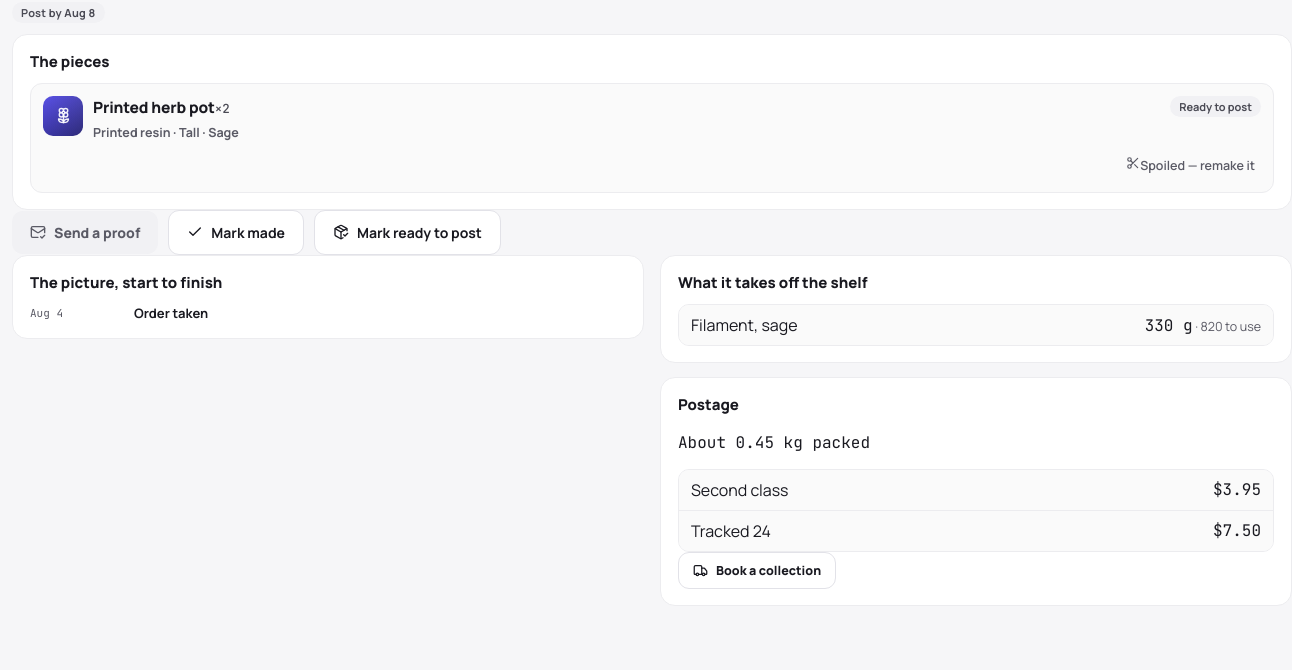
it: a collection booked on an order stays booked › comes back to the same order and finds it still there
Click the button "Book a collection" at (757, 570), box 678,552 -> 836,589
(page scrolled)
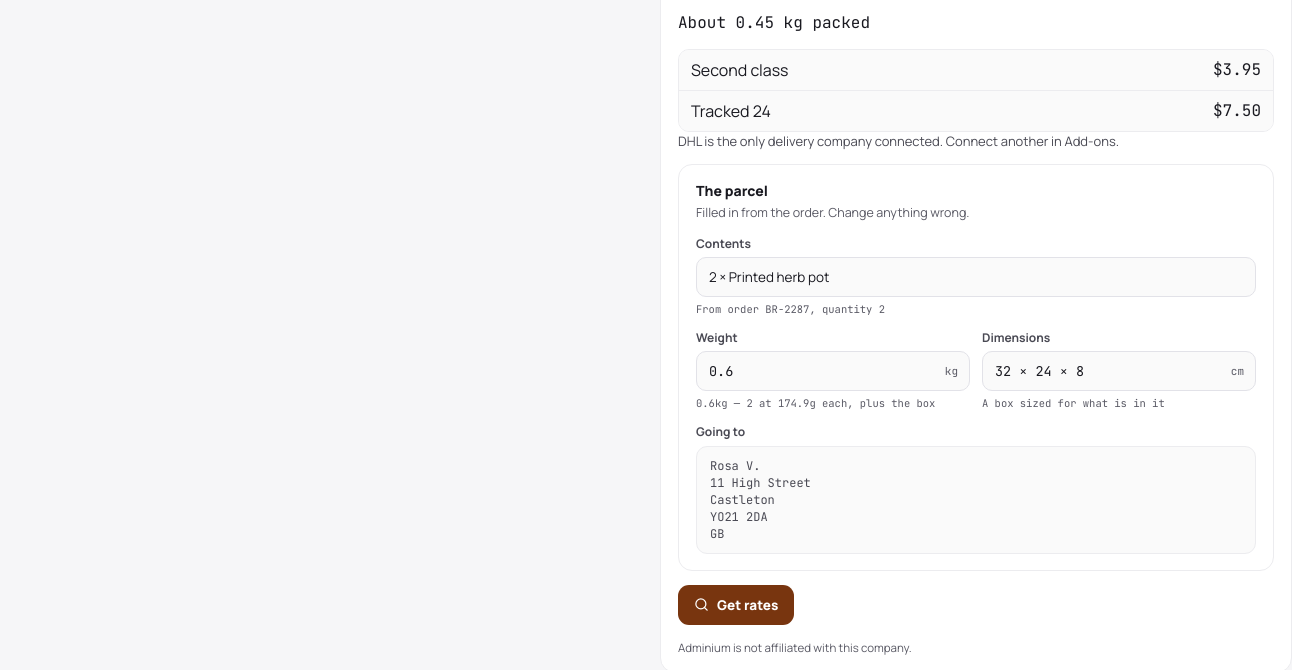
Click the button "Get rates" at (736, 605), box 678,585 -> 794,625
(page scrolled)
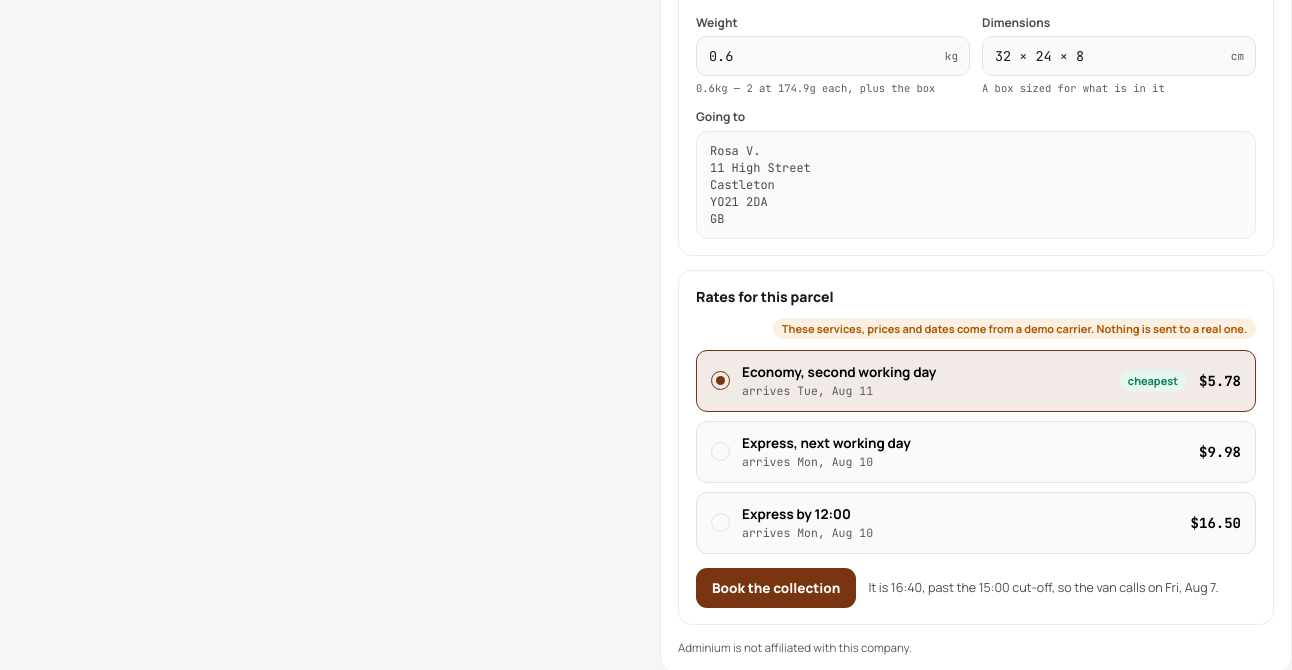
Click the button "Book the collection" at (776, 588), box 696,568 -> 856,608
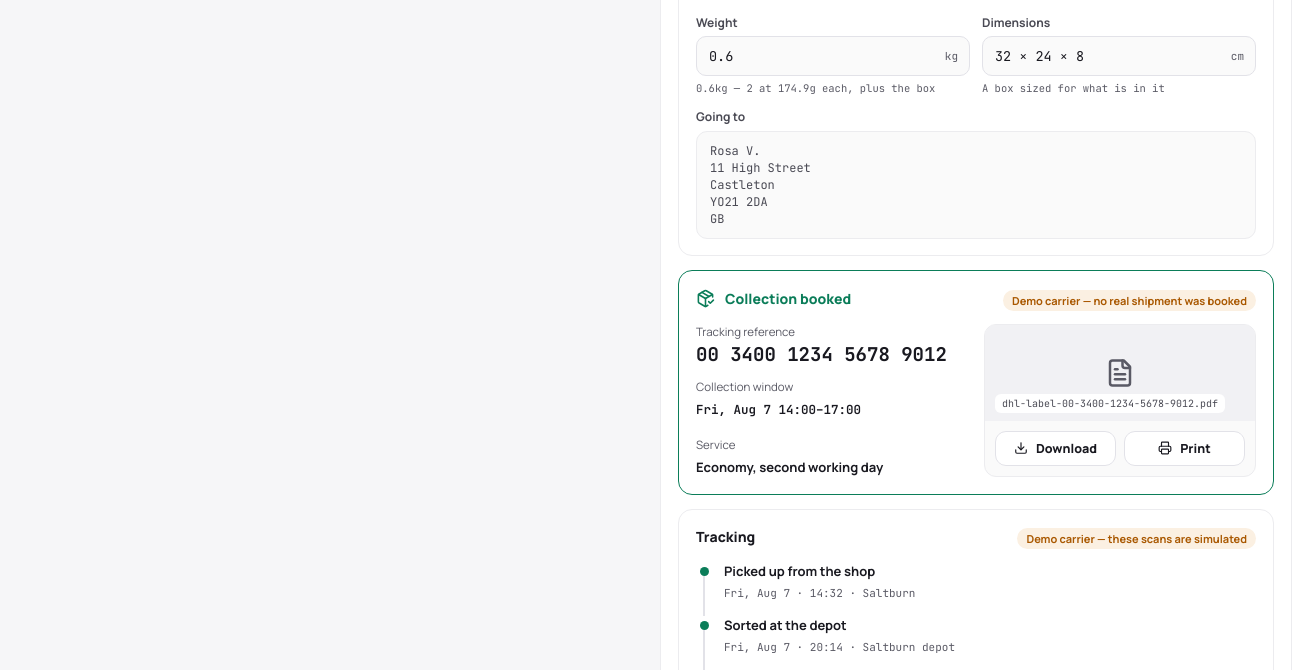
Check: the text "Collection booked" is shown, box 725,289 -> 851,308
Check: the text "00 3400 1234 5678 9012" is shown, box 696,342 -> 947,367
